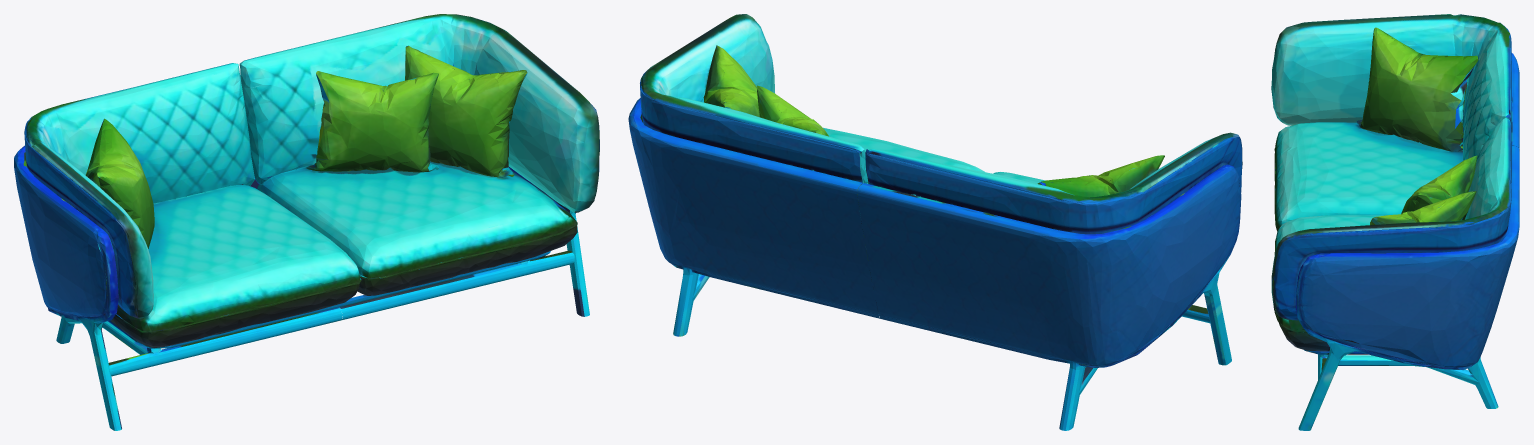
Rendered from edited_mesh.glb.
The picture shows the model from 3 angles, left to right: view 1: azimuth 30°, elevation 25°; view 2: azimuth 150°, elevation 25°; view 3: azimuth 270°, elevation 25°; orthographic projection. The views are drawn at different scales.
Parts seen in each view (by area): view 1: solid_001_wire; view 2: solid_001_wire; view 3: solid_001_wire.
Boxes of the visible parts, x1,y1,x2,y2 form: solid_001_wire: (14,14,599,430); solid_001_wire: (628,14,1242,430); solid_001_wire: (1271,14,1519,430).
Bounding box in the file's own units: 2 × 0.8758 × 0.9391.
Materials: 1 (1 with a texture image).
